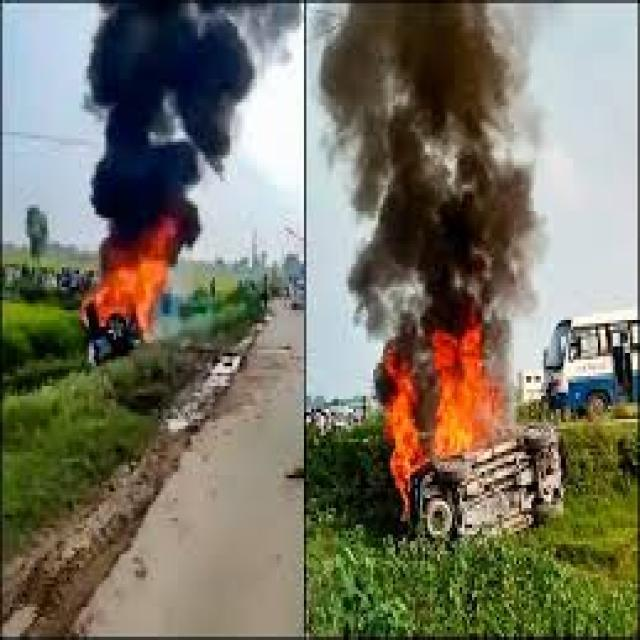Fire: (382, 329, 502, 452), (88, 215, 180, 326), (391, 452, 424, 500)
Smoke: (325, 1, 541, 326), (83, 0, 256, 214), (258, 0, 302, 69), (183, 208, 201, 248)
